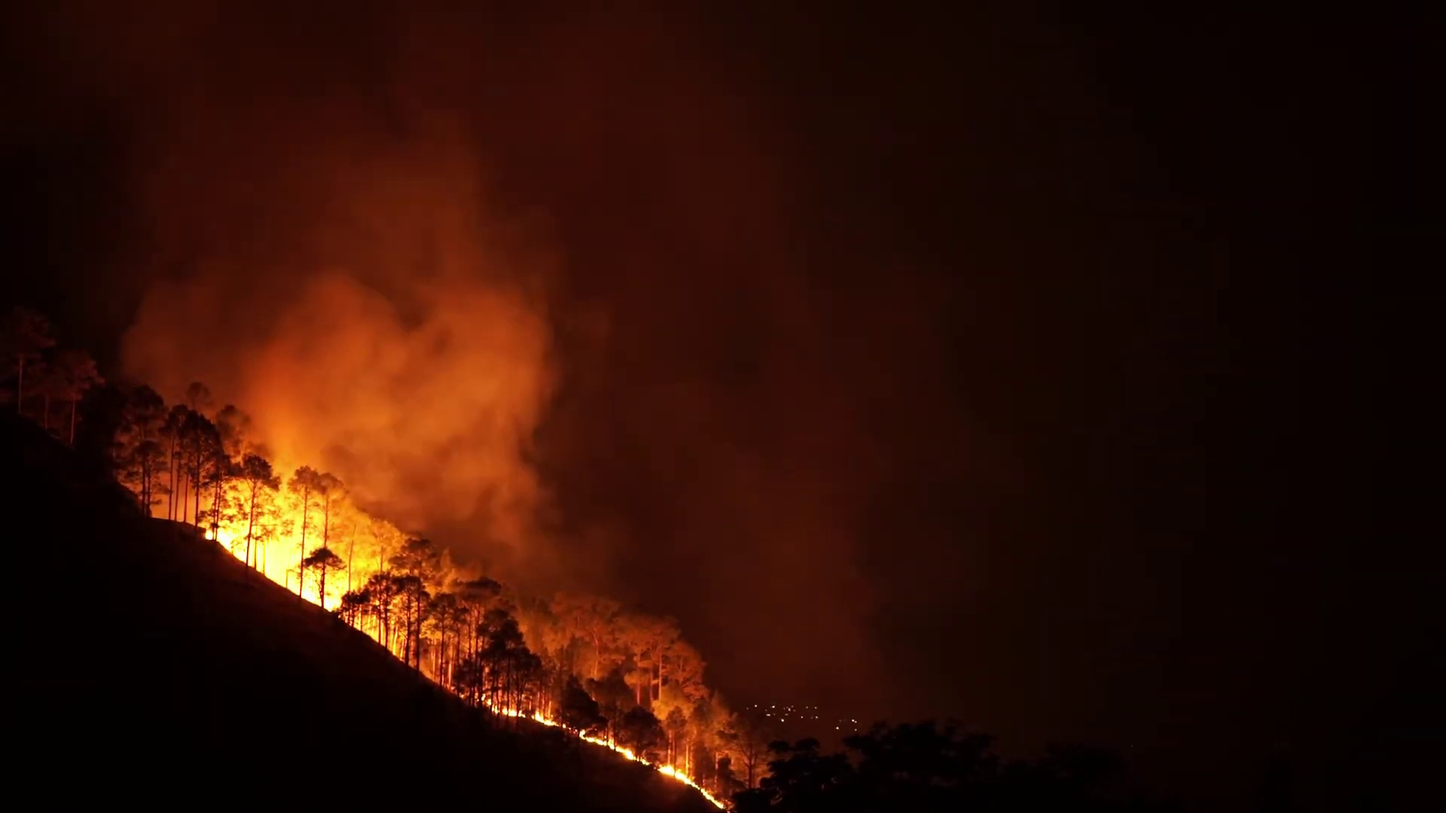forest_fire: (88, 383, 755, 806), (87, 426, 93, 429)
